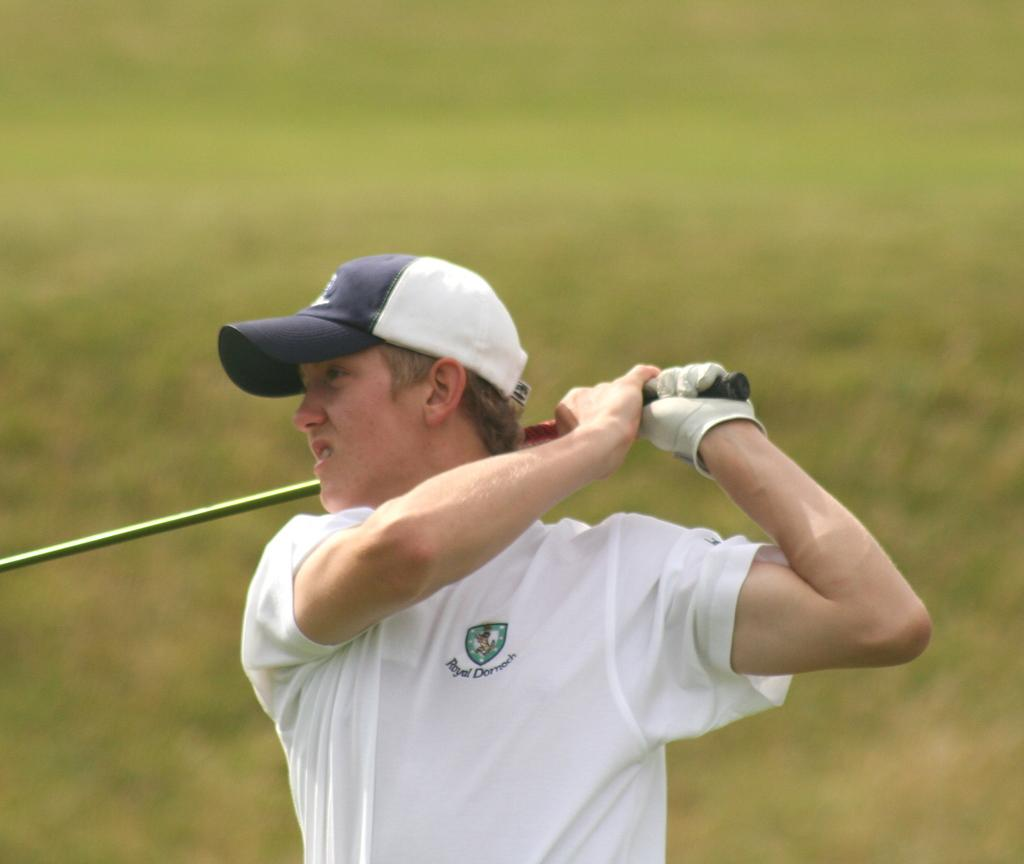Hat: (216, 252, 530, 402)
